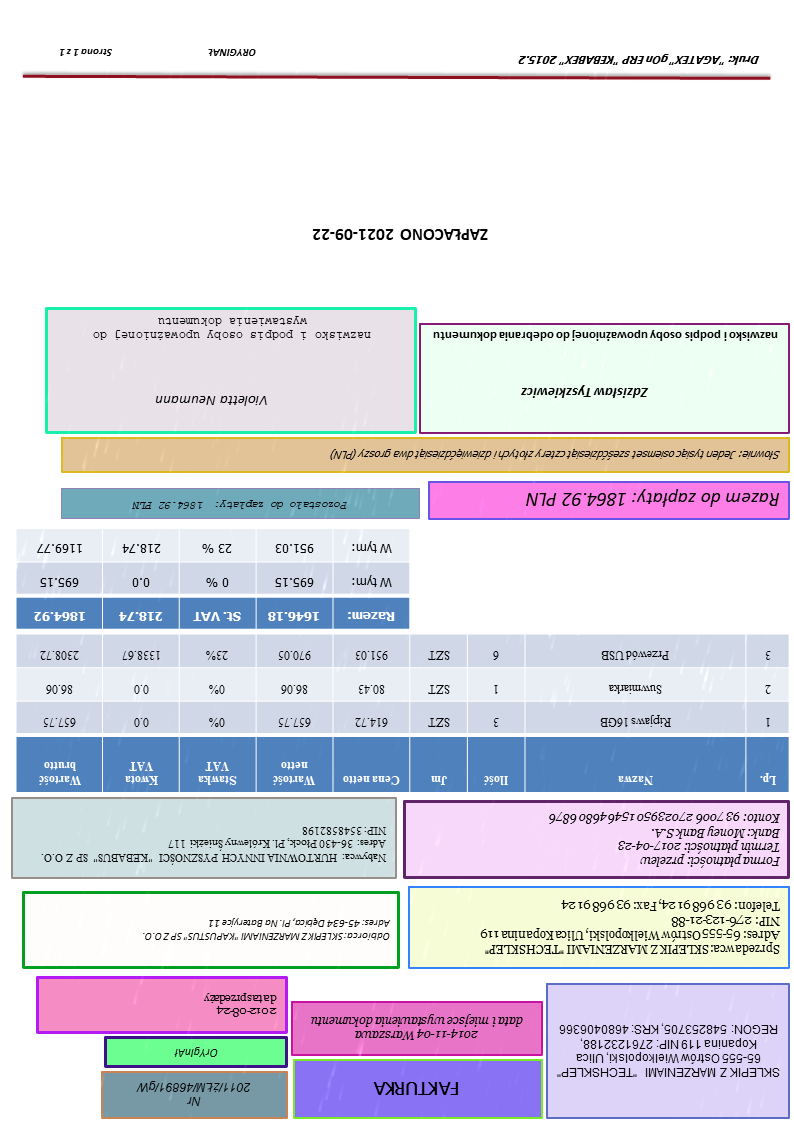Table: (16, 633, 792, 795), (16, 527, 412, 630)
TextBox: (477, 896, 784, 961), (40, 821, 391, 866), (545, 808, 784, 872), (556, 1020, 784, 1082), (87, 314, 375, 345), (328, 446, 784, 464), (143, 916, 394, 947), (308, 1011, 526, 1043), (524, 485, 785, 511), (430, 328, 783, 346), (514, 50, 764, 71), (133, 1077, 255, 1111), (308, 225, 492, 245), (55, 45, 262, 62), (130, 499, 353, 514), (519, 383, 651, 405), (202, 988, 282, 1021), (155, 391, 272, 411), (370, 1077, 462, 1099), (171, 1044, 221, 1061)
